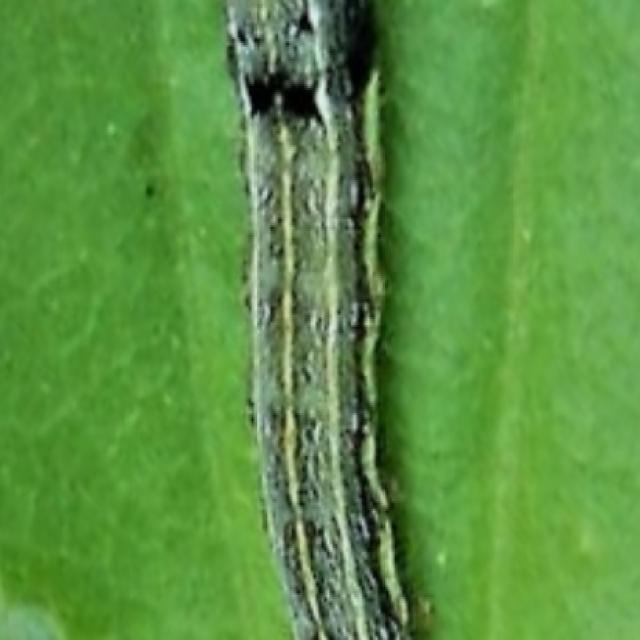armyworm: (212, 0, 436, 638)
